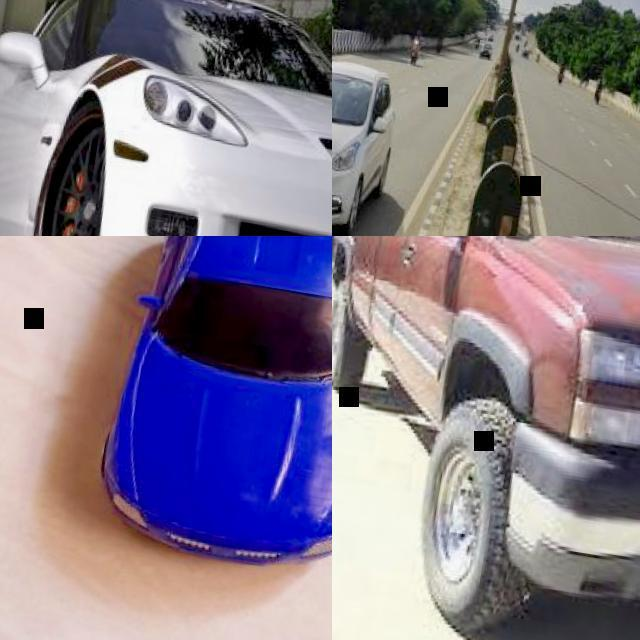car: (332, 60, 394, 227)
